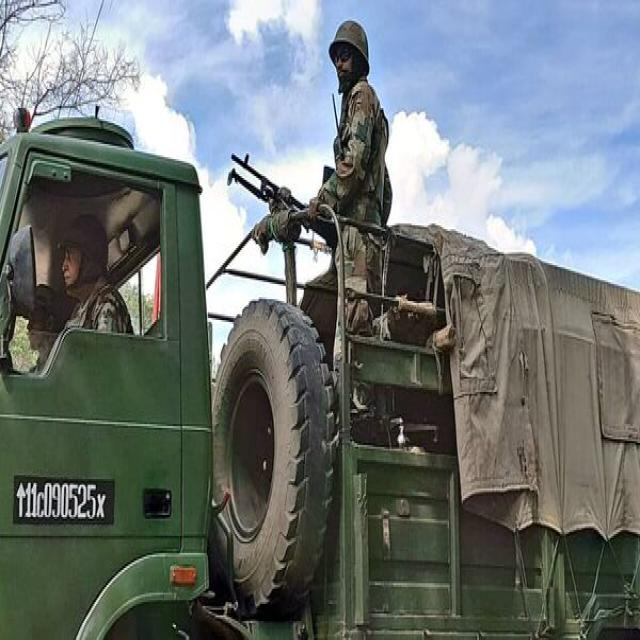military-plate: (14, 477, 116, 526)
